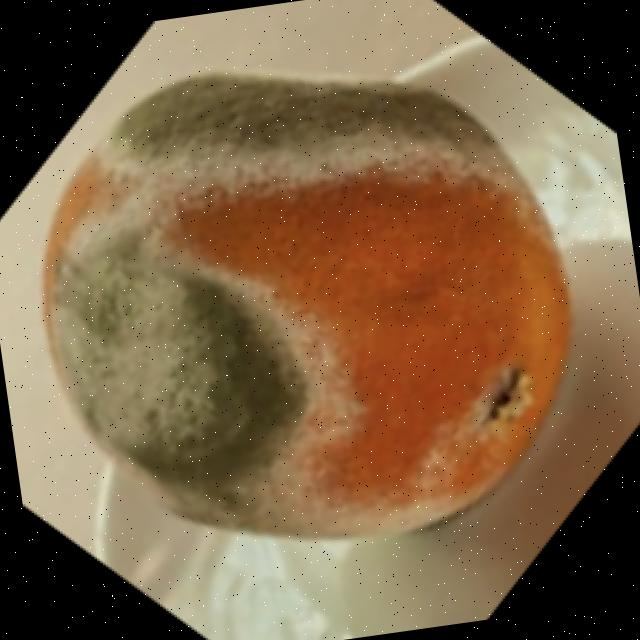Rotten: (11, 29, 602, 582)
